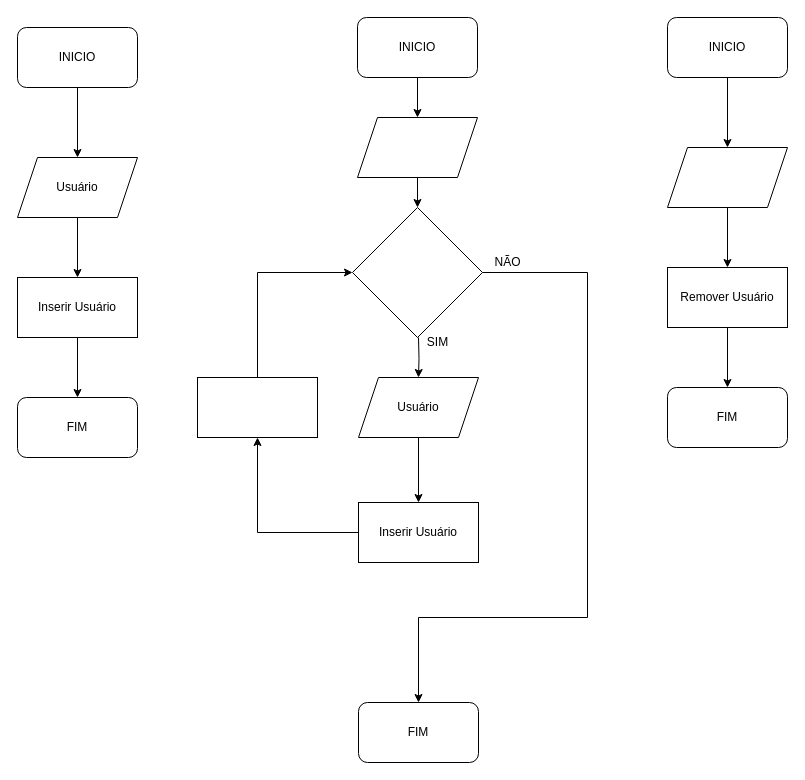
This 805x780 diagram has some shape labels left out. Each missing label, with the box of its shape:
i < Quantidade de Usuários: (352, 206, 482, 338)
i++: (196, 376, 318, 438)
id do Usuário: (666, 146, 788, 208)
Quantidade de Usuários: (356, 116, 478, 178)
